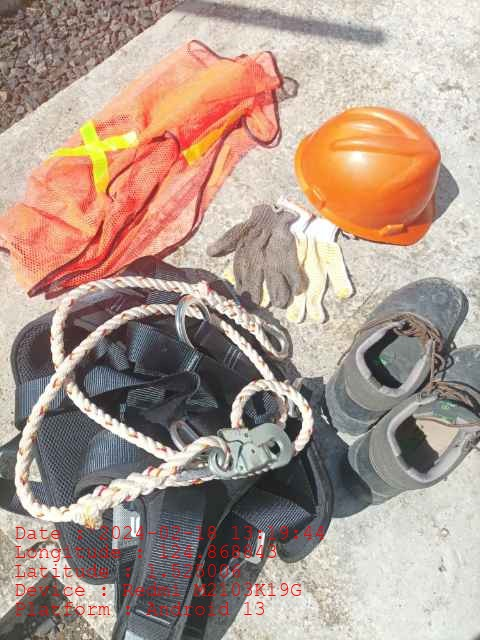HELM: (296, 105, 441, 246)
SARUNG_TANGAN: (209, 205, 308, 309)
SEPATU: (328, 275, 480, 507)
TAMBANG_SLING: (12, 279, 295, 525)
